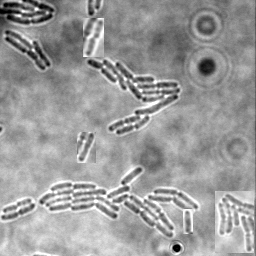Dividing: (83, 18, 104, 57), (1, 204, 37, 222), (3, 199, 33, 215), (183, 209, 193, 234)
Microcolony: (40, 167, 199, 238), (87, 59, 181, 136), (215, 191, 254, 253), (5, 30, 52, 72), (1, 1, 56, 26)
Rod: (77, 132, 96, 163)
